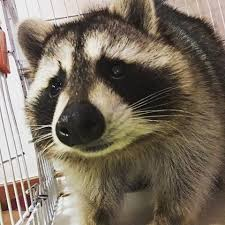raccoon: (13, 3, 225, 223)
